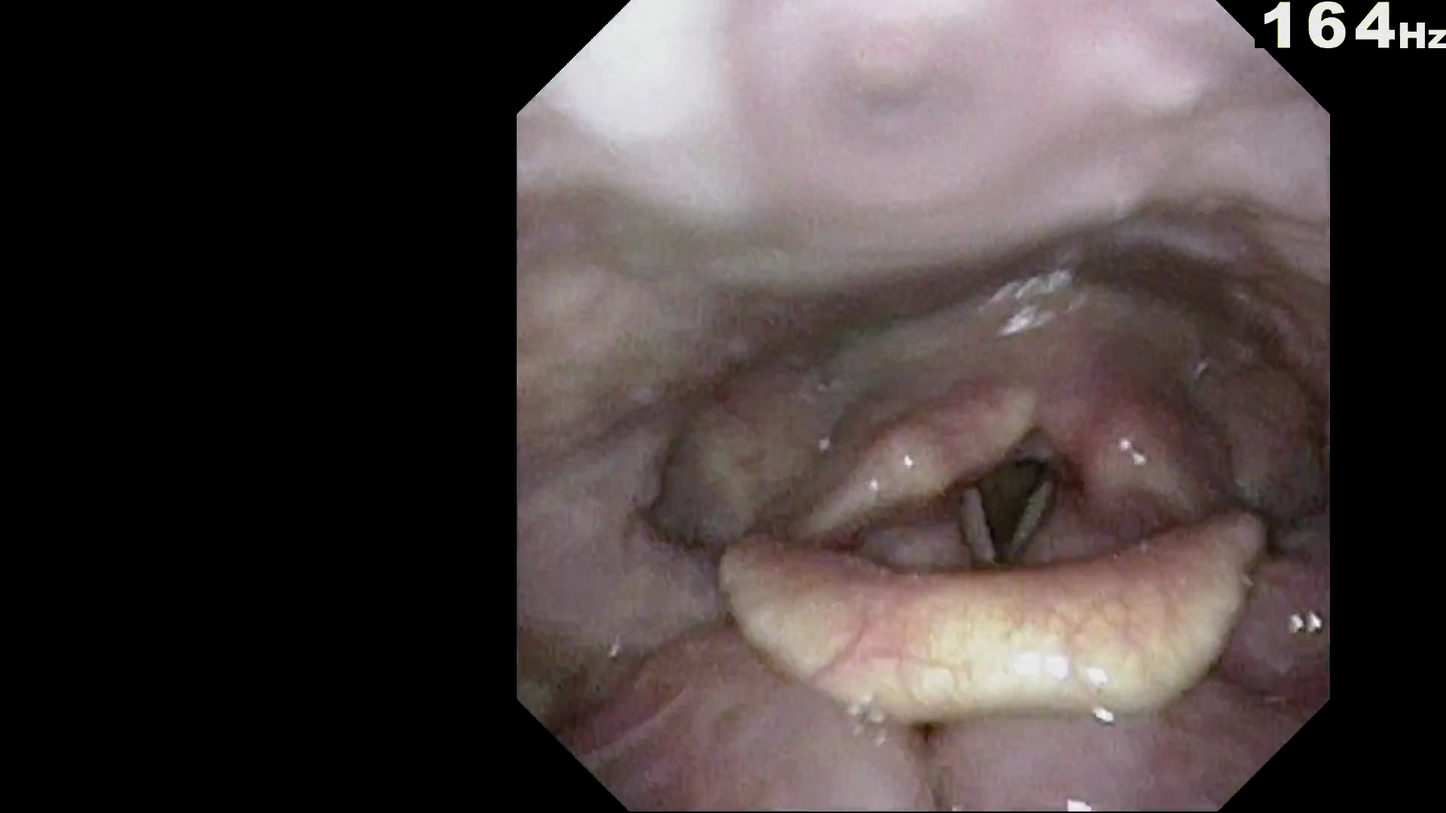epiglottis: (691, 416, 1175, 559)
